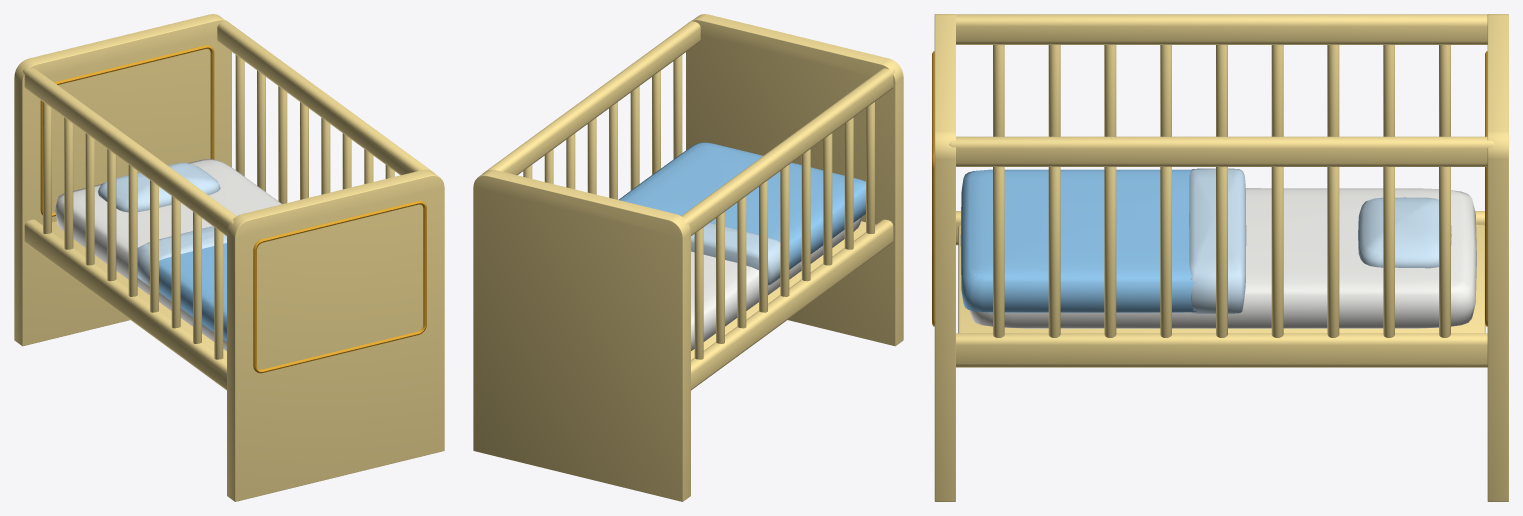
Rendered from berco_painel_amarelo.glb.
3 renders of one model, left to right at view 1: azimuth 30°, elevation 25°; view 2: azimuth 150°, elevation 25°; view 3: azimuth 270°, elevation 25°, orthographic. The views are drawn at different scales.
Visible parts, largest first — view 1: berco_painel_amarelo; view 2: berco_painel_amarelo; view 3: berco_painel_amarelo.
Part boxes in pixels (x1,y1,x2,y2): berco_painel_amarelo: (14,14,444,501); berco_painel_amarelo: (473,14,903,501); berco_painel_amarelo: (932,14,1508,501).
Size of the model in its own units: 0.74 by 0.94 by 1.36.
Materials: 1 (1 with a texture image).
